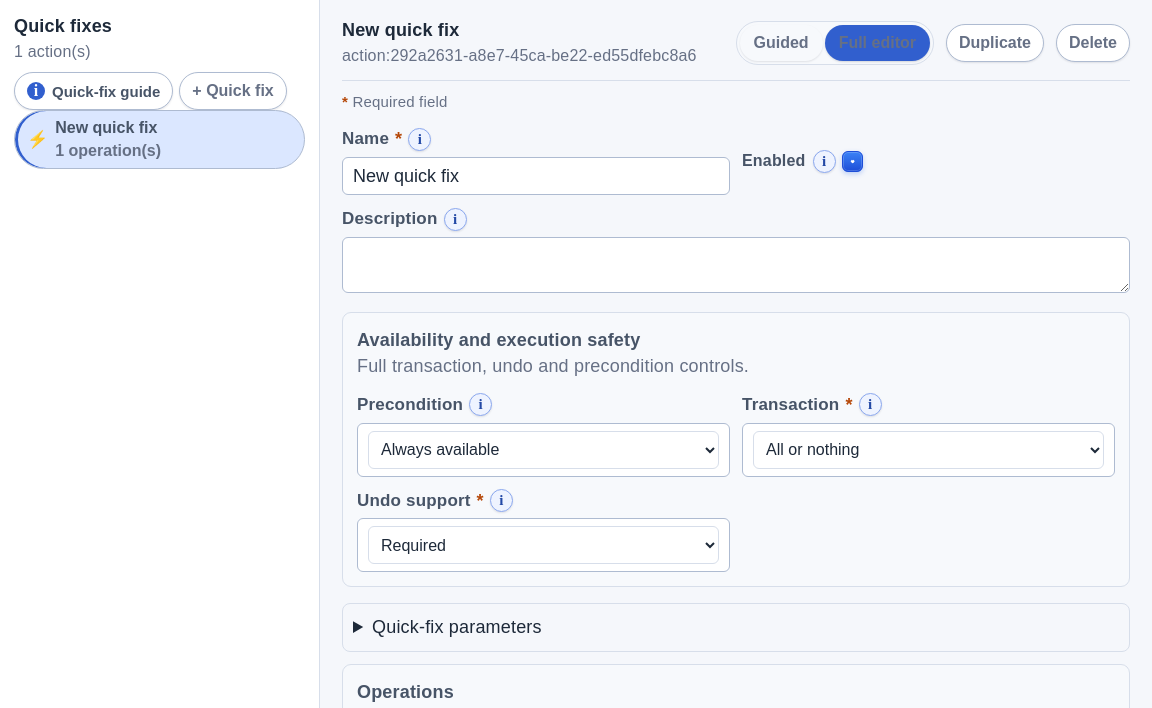
Test: quick-fix form guidance › places the guide and create button after the Quick fixes title and explains Enabled
The width and height of the screenshot is (1152, 708).
What coordinates should you click on to do the following:
click the button named "Information about Enabled"
I would click on:
 (824, 161)
Its box is [812, 150, 836, 173].
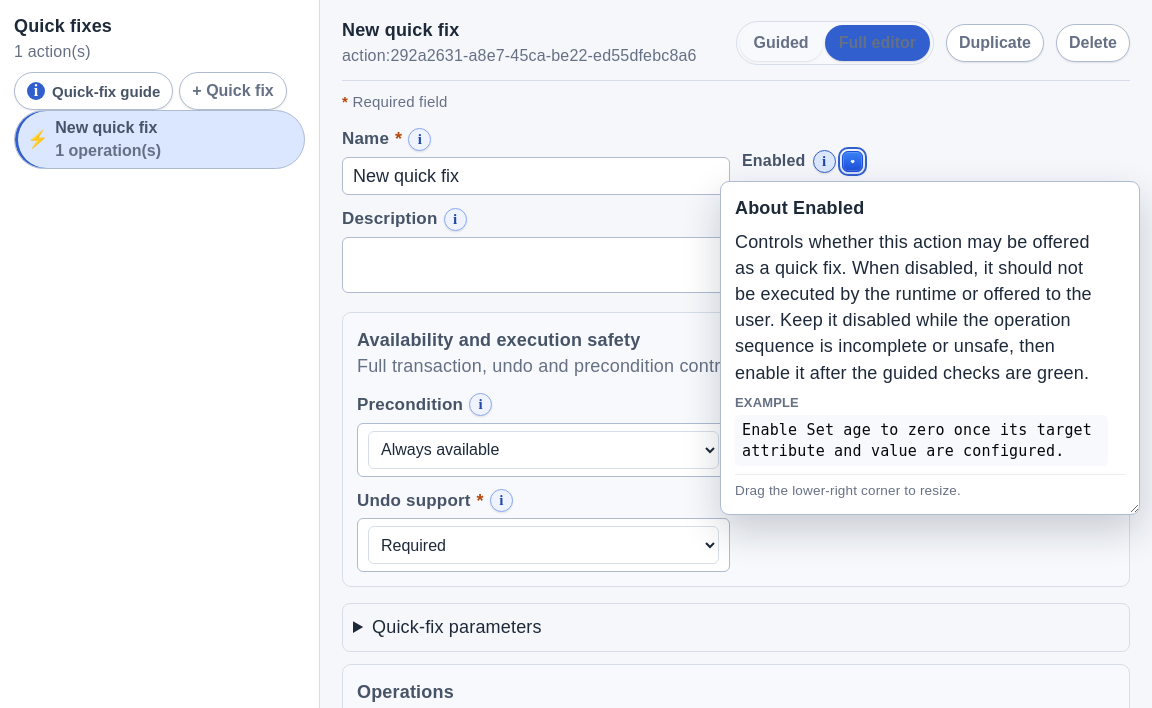
Check: the tooltip shows "should not be executed by the runtime", box [735, 232, 1092, 382]
